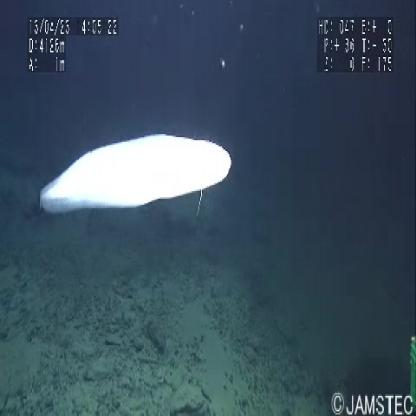Bio: (36, 129, 233, 219)
